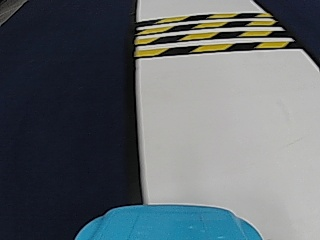bump: (147, 13, 270, 59)
